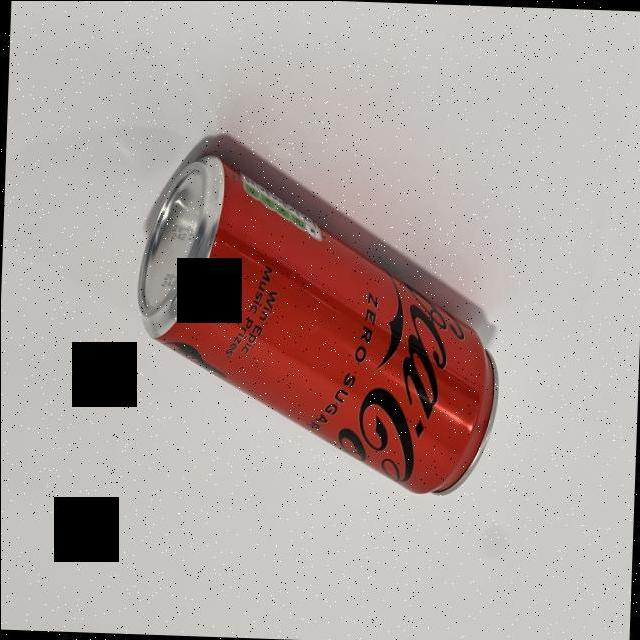can: (135, 152, 498, 494)
